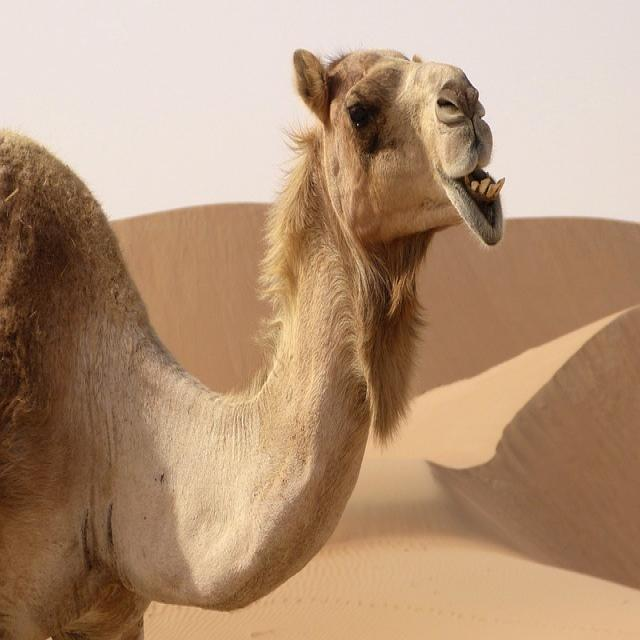Herbivorous: (0, 49, 505, 640)
